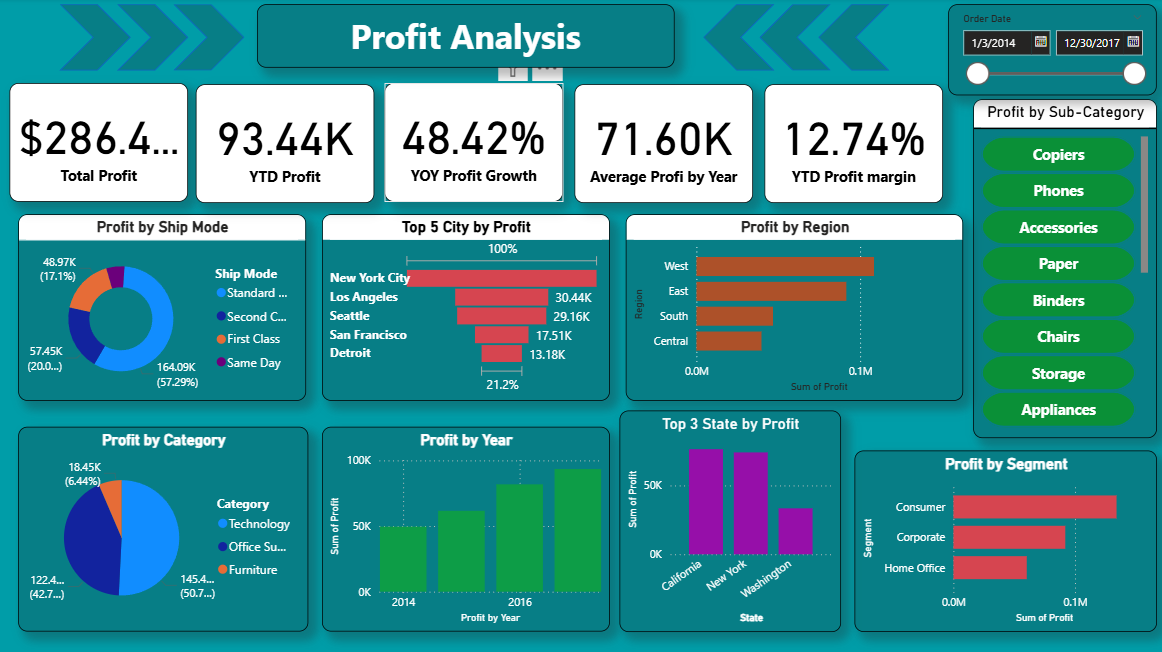

The dashboard page shown, as its layout file describes it:
{"tool":"powerbi","page":{"name":"Profit Analysis","canvas":[1280,720],"ordinal":1},"visuals":[{"type":"pieChart","title":"Profit by Category","fields":{"Category":["super_cleaned.Category"],"Y":["Sum(super_cleaned.Profit)"]},"box":[23.3,470.7,318.4,225],"z":4000},{"type":"listSlicer","title":"Profit by Sub-Category","fields":{"Values":["super_cleaned.Sub-Category"]},"box":[1071.7,111.1,201.7,371.9],"z":5000},{"type":"donutChart","title":"Profit by Ship Mode","fields":{"Category":["super_cleaned.Ship Mode"],"Y":["Sum(super_cleaned.Profit)"]},"box":[23.3,237.4,315.6,204.5],"z":6000},{"type":"lineClusteredColumnComboChart","title":"Profit by Year","fields":{"Category":["super_cleaned.Profit by Year"],"Y":["Sum(super_cleaned.Profit)"]},"box":[356.8,470.7,315.6,225],"z":7000},{"type":"funnel","title":"Top 5 City by Profit","fields":{"Category":["super_cleaned.City"],"Y":["Sum(super_cleaned.Profit)"]},"box":[356.8,237.4,315.6,204.5],"z":8000},{"type":"card","fields":{"Values":["added_table.Total Profit"]},"box":[13.7,93.3,196.2,130.4],"z":8001},{"type":"card","fields":{"Values":["added_table.YTD Profit"]},"box":[218.2,94.7,196.2,130.4],"z":8004},{"type":"card","fields":{"Values":["added_table.YOY Profit Growth"]},"box":[425.4,93.3,196.2,130.4],"z":8005},{"type":"card","fields":{"Values":["added_table.Average Profi by Year"]},"box":[634,94.7,196.2,130.4],"z":8006},{"type":"card","fields":{"Values":["added_table.YTD Profit margin"]},"box":[842.5,94.7,196.2,130.4],"z":8007},{"type":"clusteredBarChart","title":"Profit by Segment","fields":{"Category":["super_cleaned.Segment"],"Y":["Sum(super_cleaned.Profit)"]},"box":[941.3,496.7,332.1,199],"z":8008},{"type":"clusteredBarChart","title":"Profit by Region","fields":{"Category":["super_cleaned.Region"],"Y":["Sum(super_cleaned.Profit)"]},"box":[690.2,237.4,370.5,204.5],"z":8009},{"type":"clusteredColumnChart","title":"Top 3 State by Profit","fields":{"Y":["Sum(super_cleaned.Profit)"],"Category":["super_cleaned.State"]},"box":[683.4,452.8,242.9,242.9],"z":8010},{"type":"textbox","box":[285.4,6.9,458.3,70],"z":8011},{"type":"slicer","fields":{"Values":["super_cleaned.Order Date"]},"box":[1044.3,6.9,229.2,100.2],"z":8012},{"type":"shape","box":[775.3,6.9,78.2,72.7],"z":8014},{"type":"shape","box":[837.1,6.9,78.2,72.7],"z":8015},{"type":"shape","box":[901.5,6.9,78.2,72.7],"z":8016},{"type":"shape","box":[193.5,6.9,78.2,72.7],"z":8017},{"type":"shape","box":[131.7,6.9,78.2,72.7],"z":8018},{"type":"shape","box":[68.6,6.9,78.2,72.7],"z":8019}]}

Visuals, with their boxes in screenshot pixels (x1, y1, x2, y2), scaled from the page's 1280x720 canvas onto the 1162x652 screenshot:
"Profit by Category" pieChart: 21,426,310,630
"Profit by Sub-Category" listSlicer: 973,101,1156,437
"Profit by Ship Mode" donutChart: 21,215,308,400
"Profit by Year" lineClusteredColumnComboChart: 324,426,610,630
"Top 5 City by Profit" funnel: 324,215,610,400
card - added_table.Total Profit: 12,84,191,203
card - added_table.YTD Profit: 198,86,376,204
card - added_table.YOY Profit Growth: 386,84,564,203
card - added_table.Average Profi by Year: 576,86,754,204
card - added_table.YTD Profit margin: 765,86,943,204
"Profit by Segment" clusteredBarChart: 855,450,1156,630
"Profit by Region" clusteredBarChart: 627,215,963,400
"Top 3 State by Profit" clusteredColumnChart: 620,410,841,630
textbox: 259,6,675,70
slicer - super_cleaned.Order Date: 948,6,1156,97
shape: 704,6,775,72
shape: 760,6,831,72
shape: 818,6,889,72
shape: 176,6,247,72
shape: 120,6,191,72
shape: 62,6,133,72
